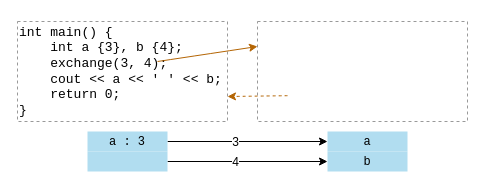
This 485x189 diagram has some shape labels left out. Each missing label, with the centre of its shape:
b : 4: point 127,161
void exchange(int a, int b) { int tmp {a}; a = b; b = tmp; return ; }: point 362,71
